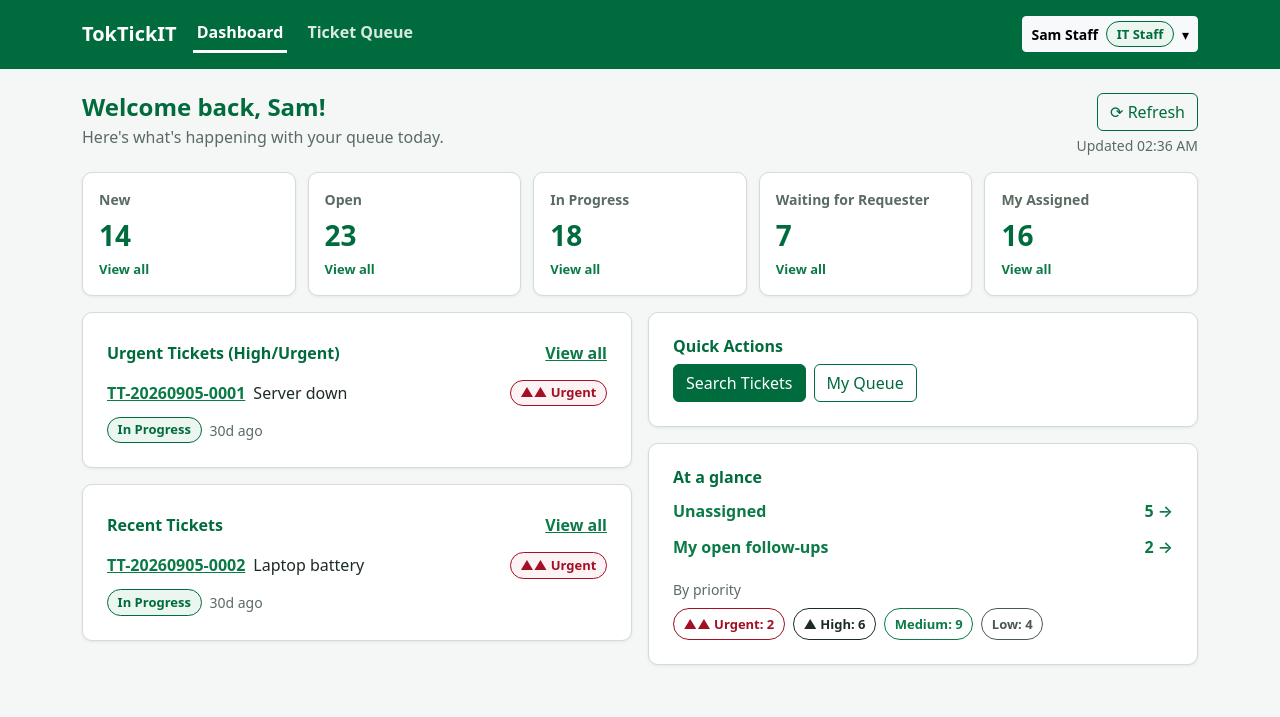
Staff Dashboard — metric cards and drill-down (AC-24, AC-25) › opens Ticket Detail from an Urgent Tickets row
The image size is (1280, 717).
Expected: the heading "Welcome back, Sam!" is shown, [82,90,326,123]
What coordinates should you click on to do the following:
click the button "TT-20260905-0001"
I would click on:
 (176, 393)
Its box is [107,377,245,409].
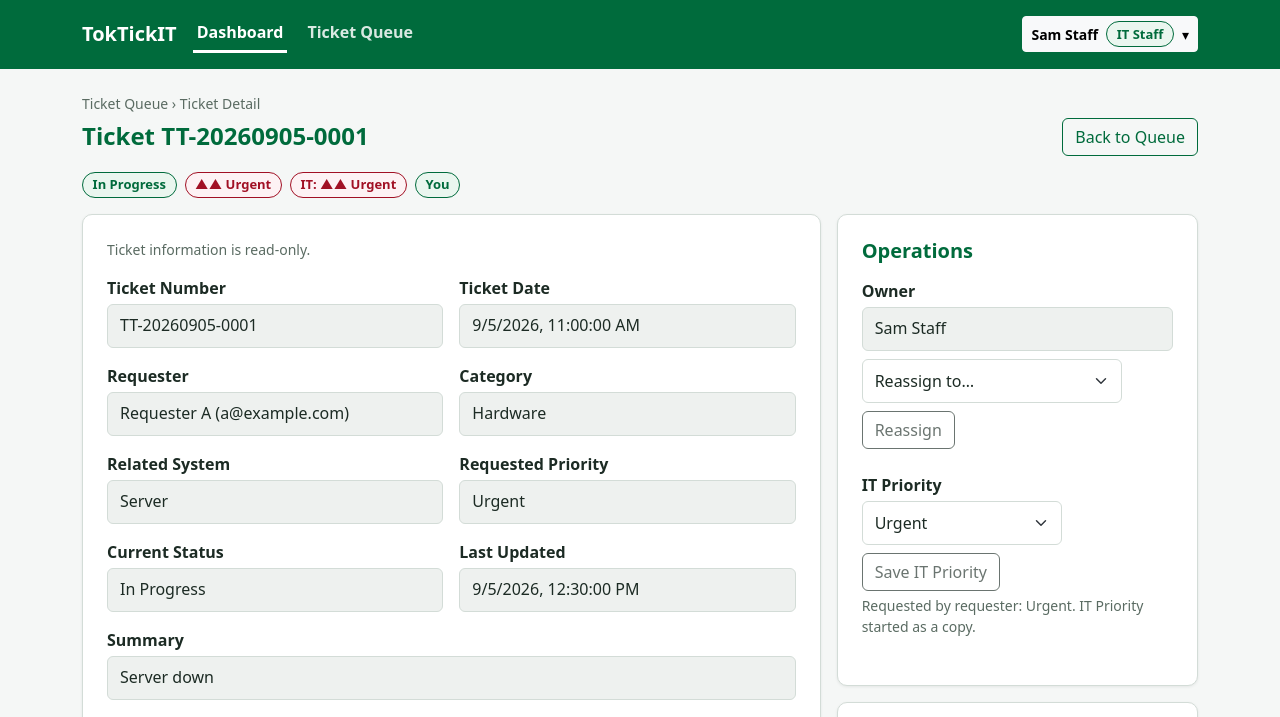
Now the text with test id "detail-ticket-number" reads "TT-20260905-0001", box [120,314,258,336]
